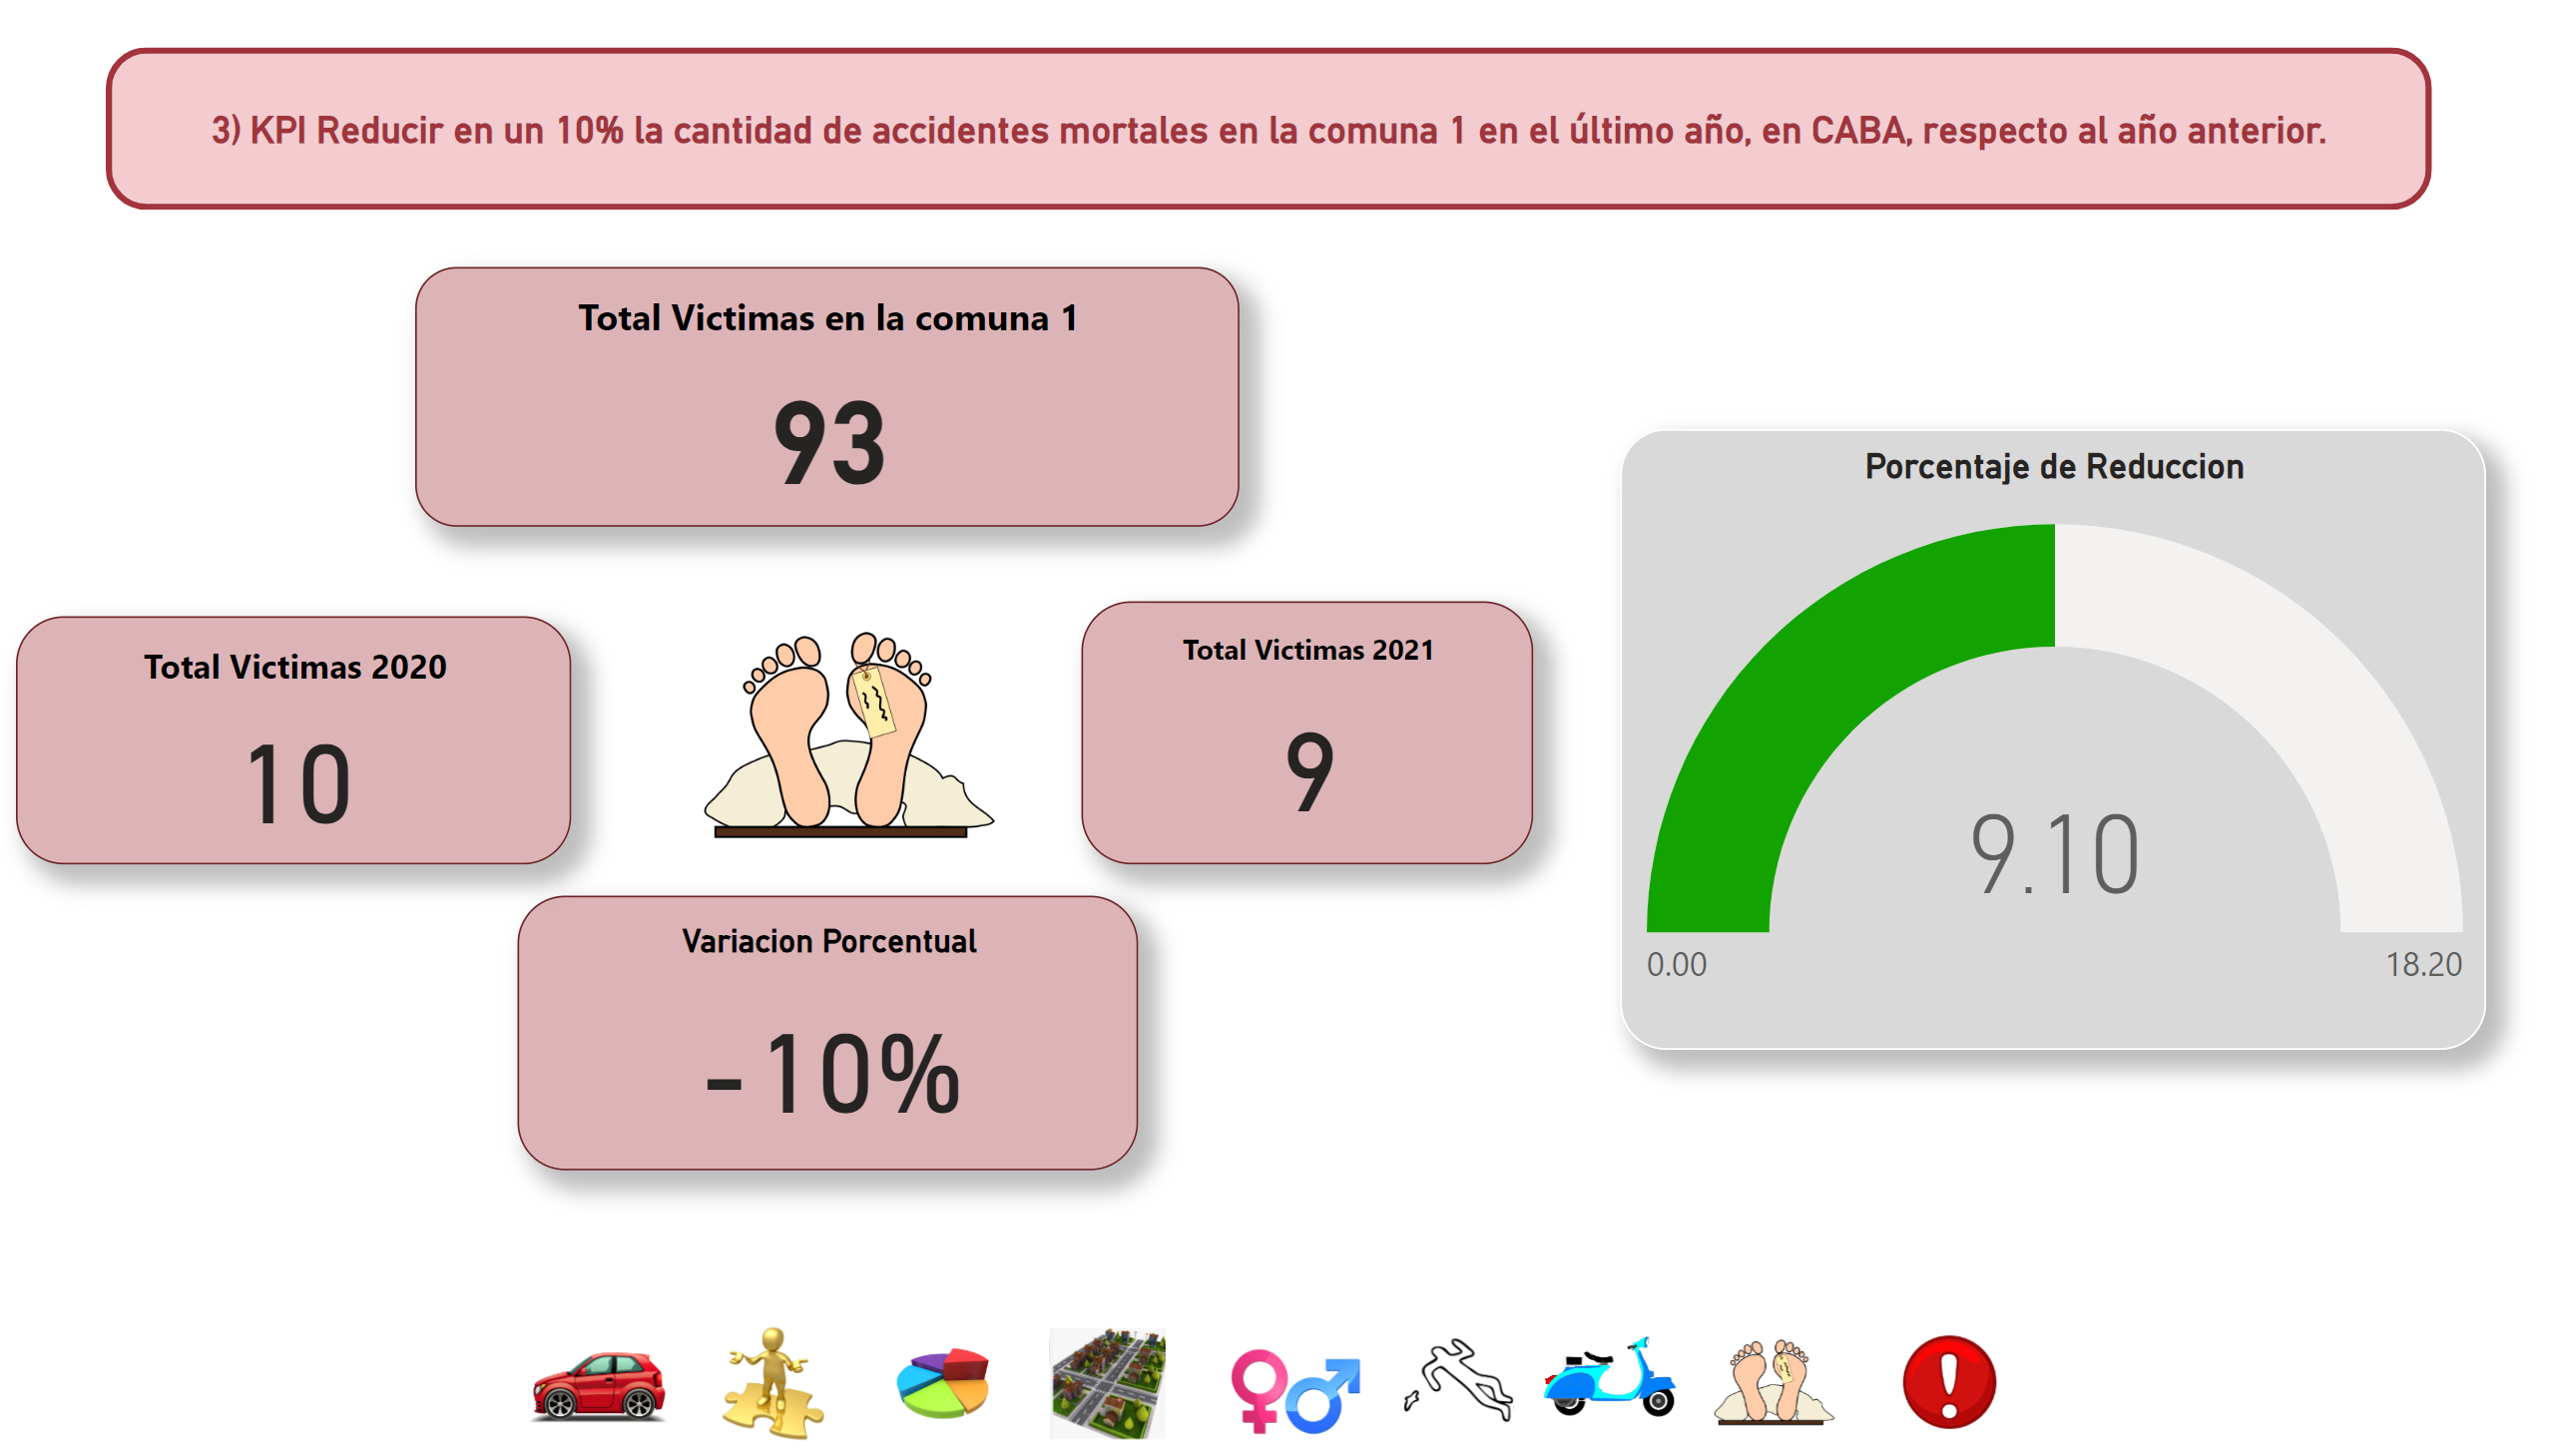

The dashboard page shown, as its layout file describes it:
{"tool":"powerbi","page":{"name":"KPI2","canvas":[1280,720],"ordinal":4},"visuals":[{"type":"textbox","box":[74.7,31.9,1140.7,87.9],"z":0},{"type":"card","title":"Total Victimas Moto 2020","fields":{"Values":["Homicidios_clean.Total V Moto2020"]},"box":[93.4,171.4,427.5,149.5],"z":1},{"type":"card","title":"Total Victimas Moto 2021","fields":{"Values":["Homicidios_clean.Total V Moto2021"]},"box":[674.7,225.3,485.7,149.5],"z":2},{"type":"gauge","title":"Porcentaje Disminucion","fields":{"Y":["Homicidios_clean.Porcentaje_Reduccion_moto"]},"box":[700,501.1,415.4,148.4],"z":3},{"type":"card","fields":{"Values":["Homicidios_clean.Variación porcentual año anterior"]},"box":[179.1,437.4,374.7,150.5],"z":4},{"type":"actionButton","box":[0,0,45.1,41.8],"z":5}]}

Visuals, with their boxes in screenshot pixels (x1, y1, x2, y2), scaled from the page's 1280x720 canvas onto the 2561x1456 screenshot:
textbox: bbox(150, 65, 2431, 243)
"Total Victimas Moto 2020" card: bbox(187, 346, 1042, 649)
"Total Victimas Moto 2021" card: bbox(1350, 456, 2321, 757)
"Porcentaje Disminucion" gauge: bbox(1400, 1013, 2232, 1313)
card - Homicidios_clean.Variación porcentual año anterior: bbox(358, 884, 1108, 1189)
actionButton: bbox(0, 0, 90, 85)
